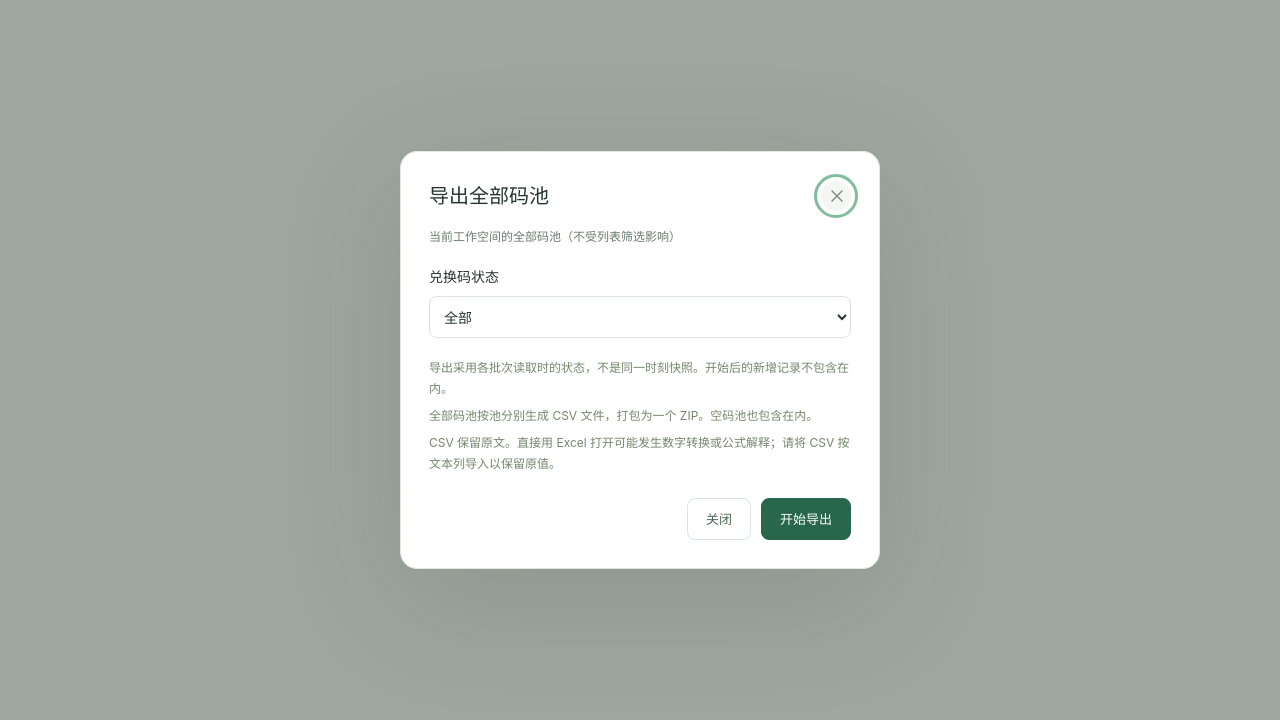
Test: a failure has no partial download and can be retried
This screenshot has width=1280, height=720.
What coordinates should you click on to do the following:
click the button "开始导出"
I would click on:
 (806, 519)
Its box is left=761, top=498, right=851, bottom=540.
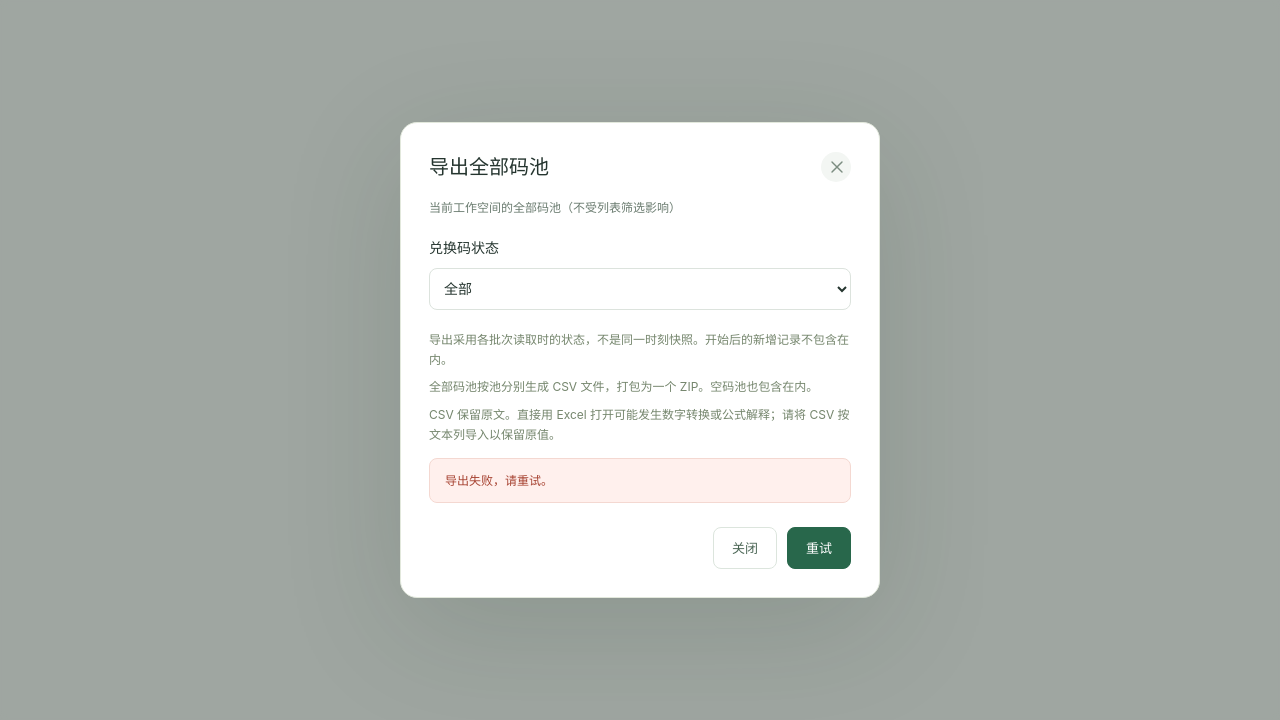
Check: the message shows "导出失败", box left=445, top=473, right=553, bottom=488
What coordinates should you click on to do the following:
click the button "重试"
I would click on:
 (819, 548)
Its box is left=787, top=527, right=851, bottom=569.
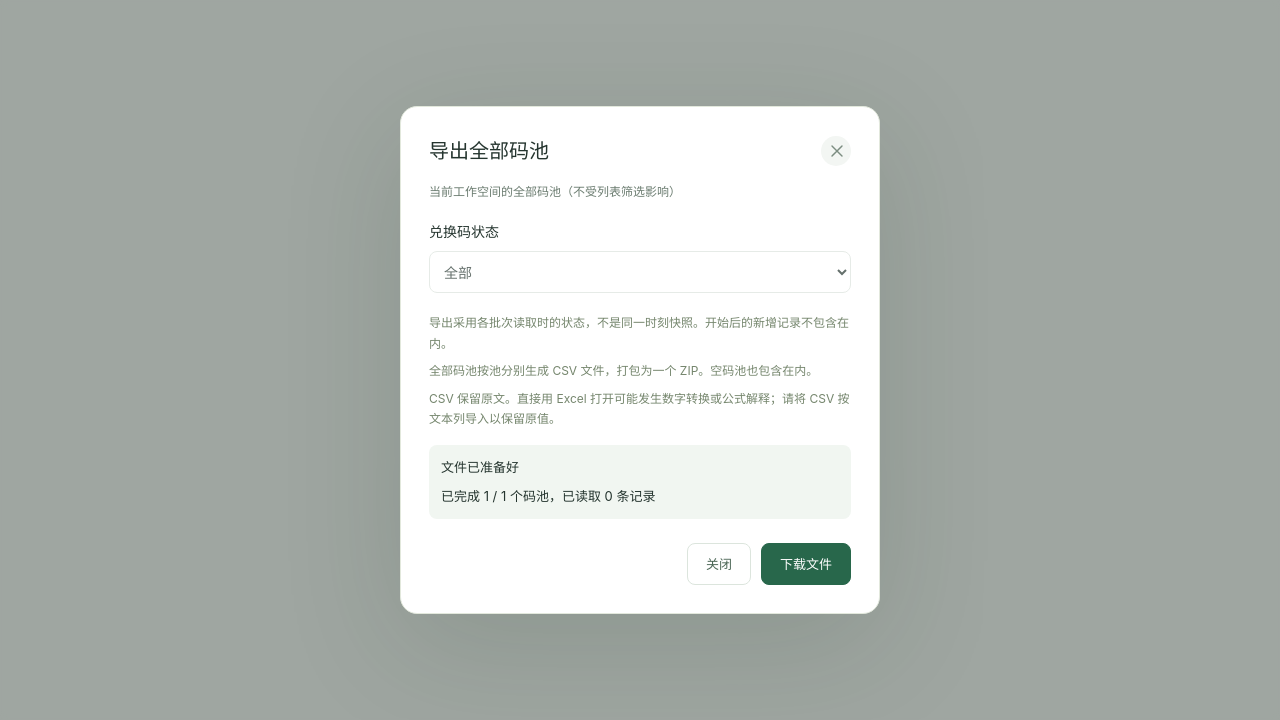
Check: the dropdown labelled "兑换码状态" shows "全部", box left=429, top=251, right=851, bottom=293
Check: the link "下载文件" is shown, box left=761, top=543, right=851, bottom=585
